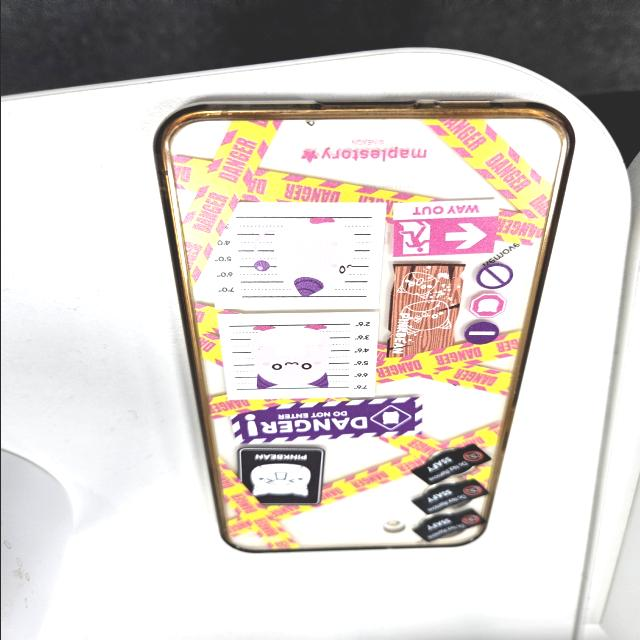phone: (154, 100, 576, 556)
sticker: (412, 443, 489, 483), (410, 478, 490, 512), (409, 509, 485, 542)
